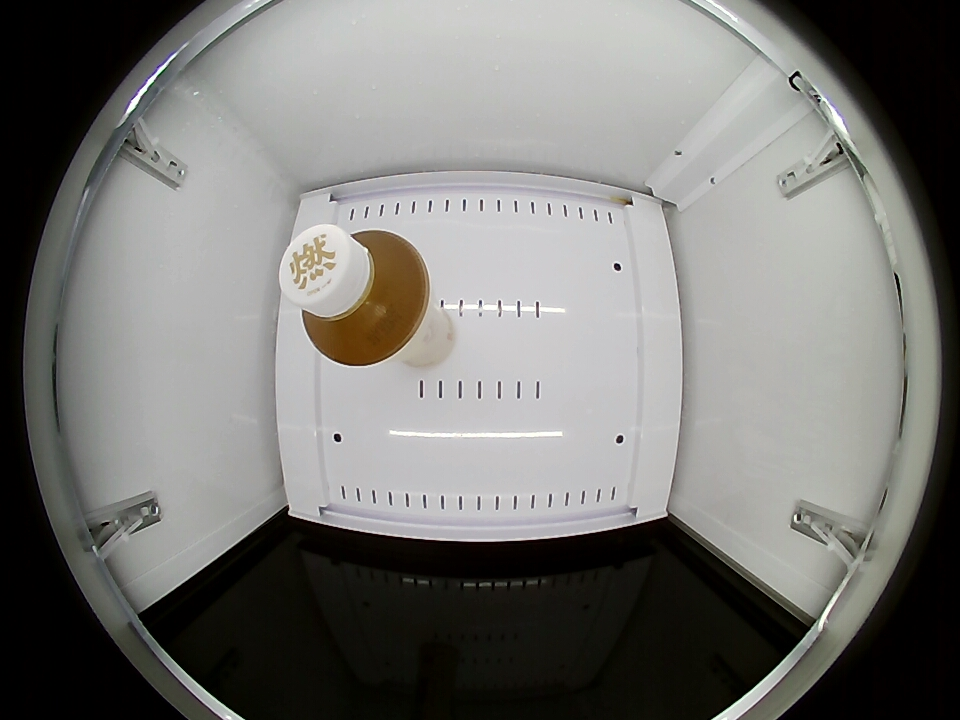rancha-2: (282, 225, 431, 366)
